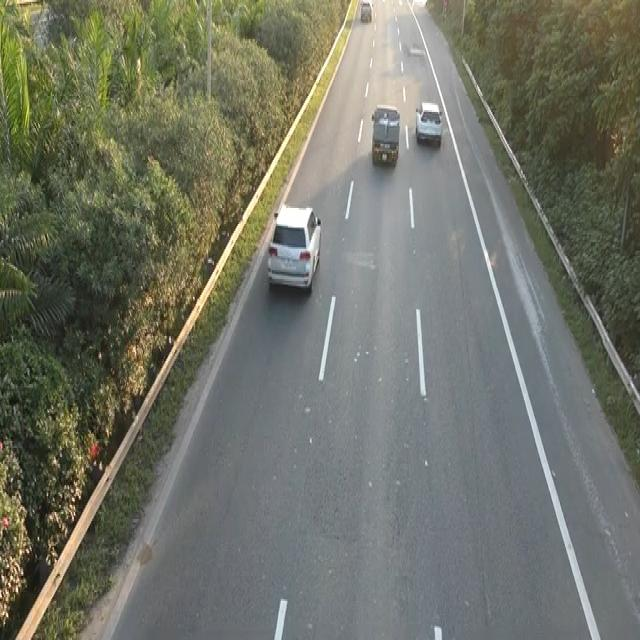car: (264, 199, 325, 301), (414, 98, 443, 148)
minivan: (369, 100, 401, 167)
